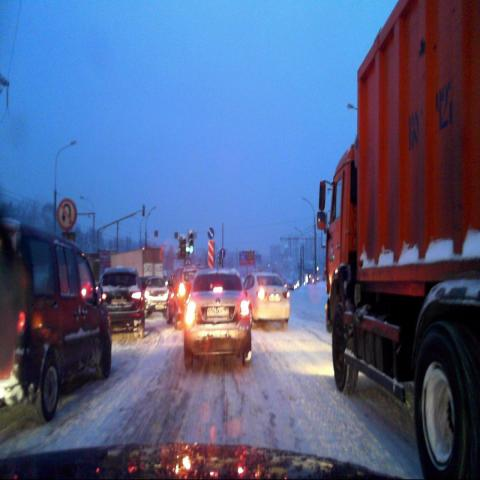3_19: (58, 198, 76, 228)
